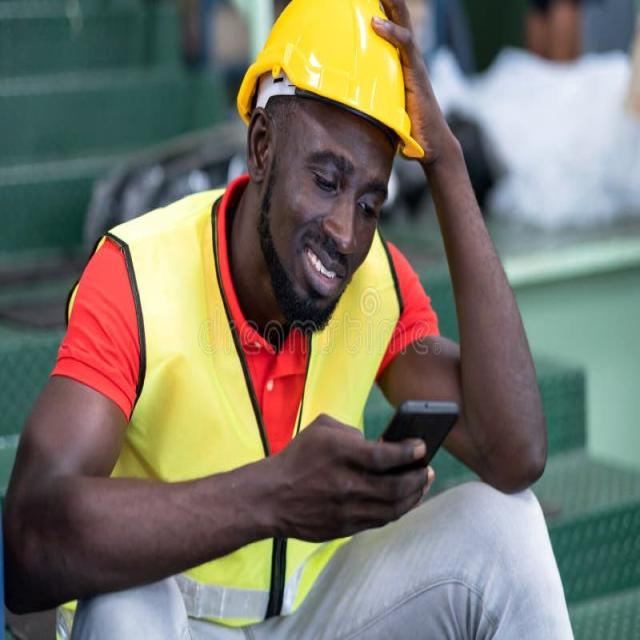helmet: (231, 0, 428, 166)
no-goggles: (276, 125, 394, 229)
vest: (52, 182, 404, 640)
